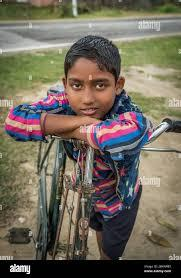Human: (13, 31, 160, 260)
